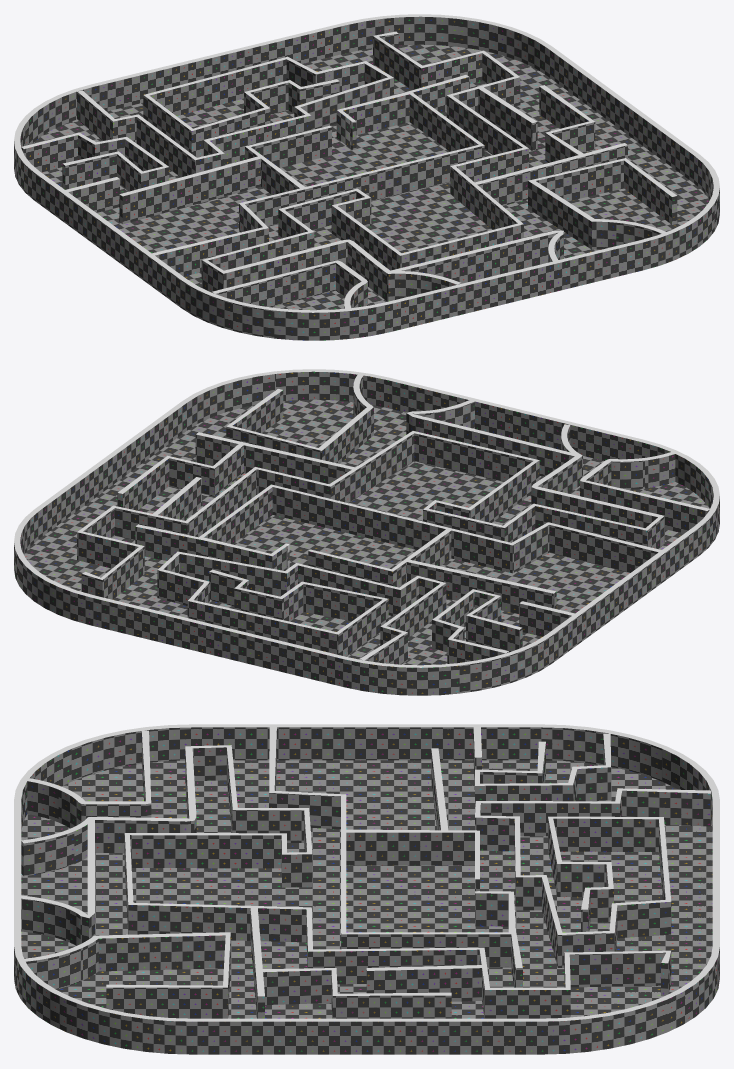
Rendered from level 1 maze.glb.
The picture shows the model from 3 angles, top to bottom: view 1: azimuth 30°, elevation 25°; view 2: azimuth 150°, elevation 25°; view 3: azimuth 270°, elevation 25°; orthographic projection. The views are drawn at different scales.
Parts seen in each view (by area): view 1: Walls-col, Ground-col; view 2: Walls-col, Ground-col; view 3: Walls-col, Ground-col.
Boxes of the visible parts, left/top/right/bottom form: Walls-col: left=14, top=14, right=719, bottom=340; Ground-col: left=32, top=44, right=709, bottom=310; Walls-col: left=14, top=369, right=719, bottom=695; Ground-col: left=24, top=399, right=708, bottom=665; Walls-col: left=14, top=724, right=719, bottom=1054; Ground-col: left=21, top=760, right=712, bottom=1018.
Bounding box in the file's own units: 38.77 × 2 × 38.9.
Materials: 2 (1 with a texture image).
